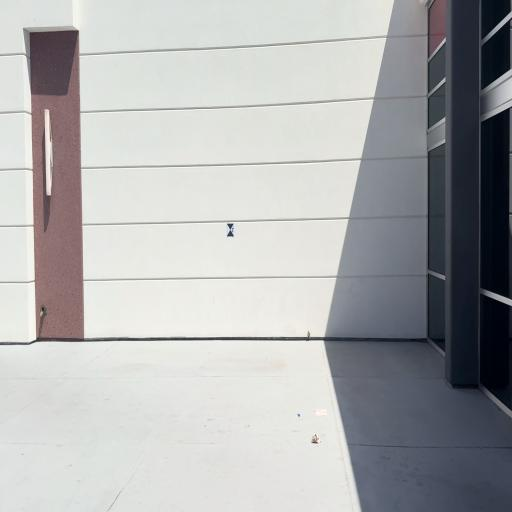target7: (226, 223, 234, 237)
